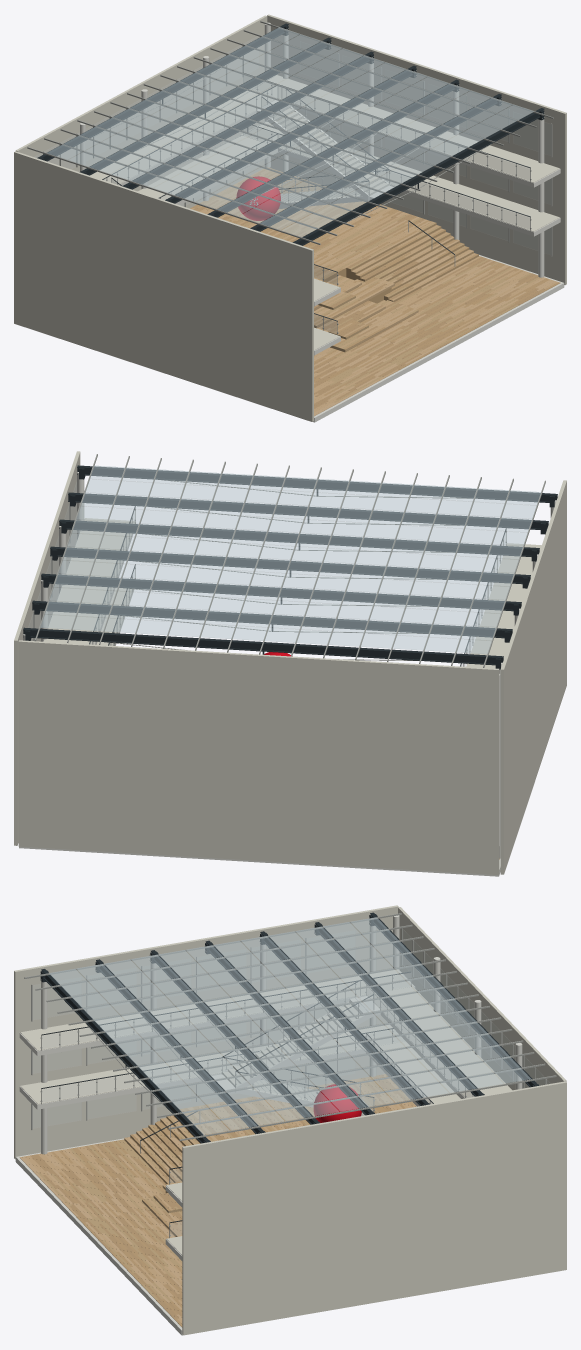
File: ckk-interior.glb
3 renders of one model, top to bottom at view 1: azimuth 30°, elevation 25°; view 2: azimuth 150°, elevation 25°; view 3: azimuth 270°, elevation 25°, orthographic. The views are drawn at different scales.
Parts seen in each view (by area): view 1: CKK_INTERIOR; view 2: CKK_INTERIOR; view 3: CKK_INTERIOR.
Boxes of the visible parts, <box> form: CKK_INTERIOR: <box>14,14,566,422</box>; CKK_INTERIOR: <box>14,451,566,876</box>; CKK_INTERIOR: <box>14,905,566,1335</box>.
Size of the model in its own units: 38.88 by 14.19 by 37.43.
